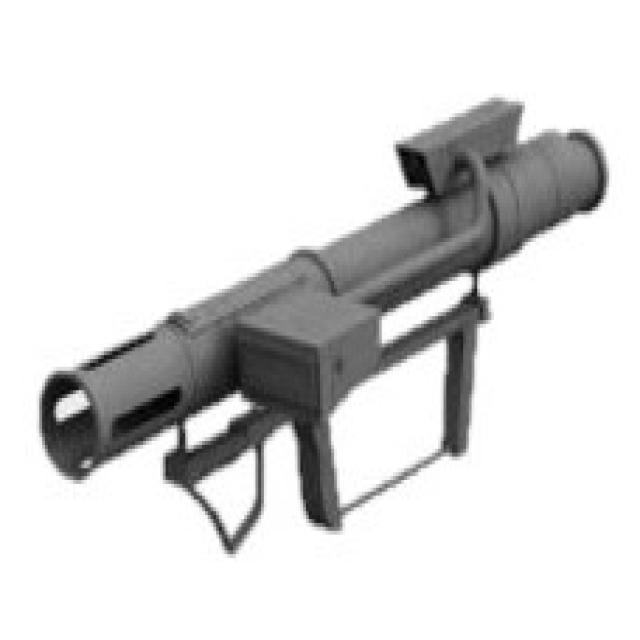bazooka: (29, 91, 618, 564)
